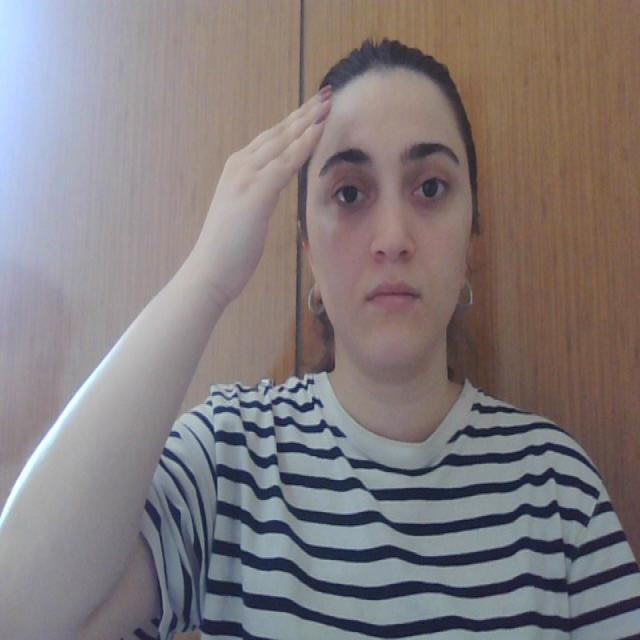Merhaba: (190, 69, 363, 354)
